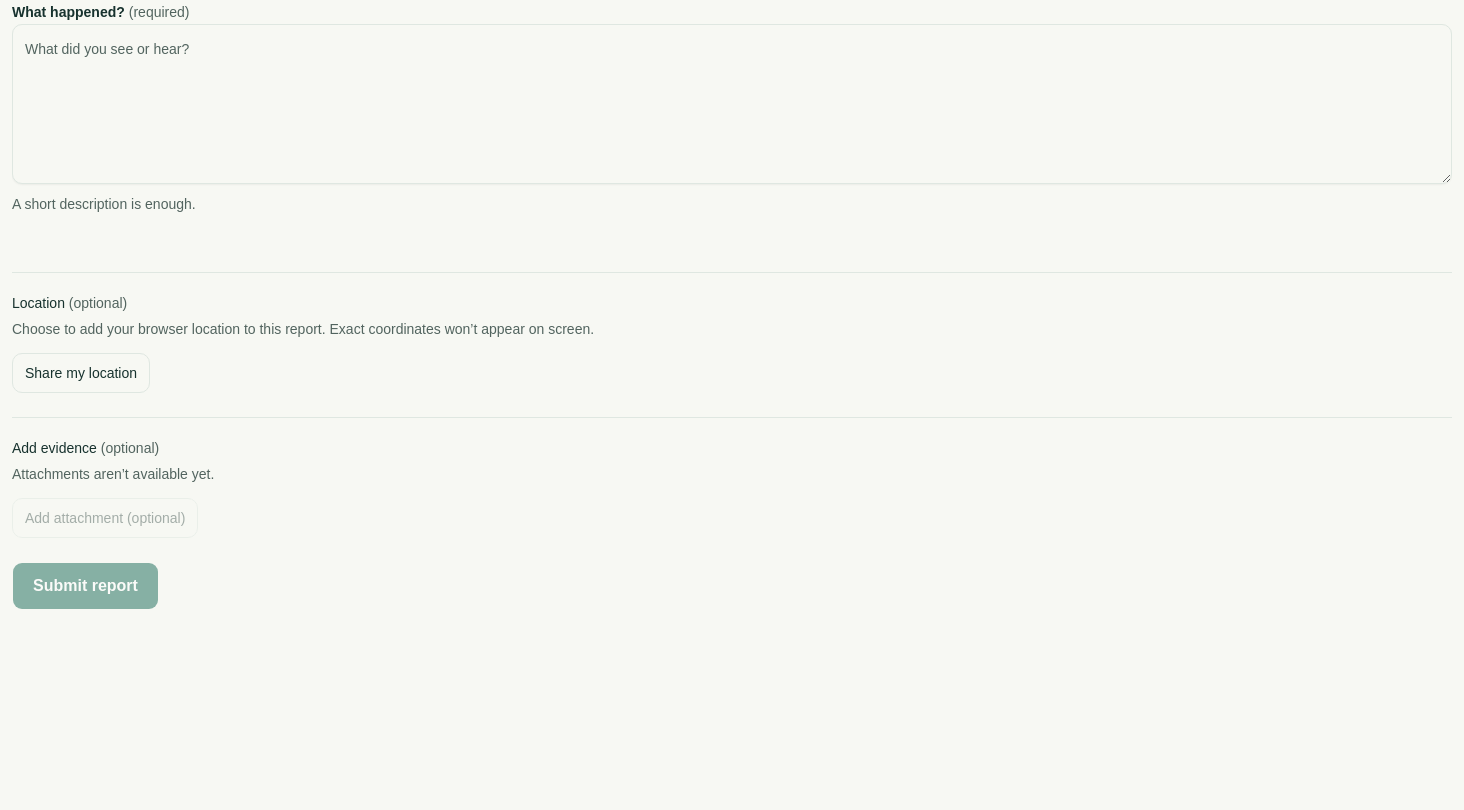
Scenario: ReportForm › submits text and shows the accepted reference
Type "  Smoke near the station.  " into the text box labelled "What happened?(required)" at (732, 104), box [12, 24, 1452, 184]
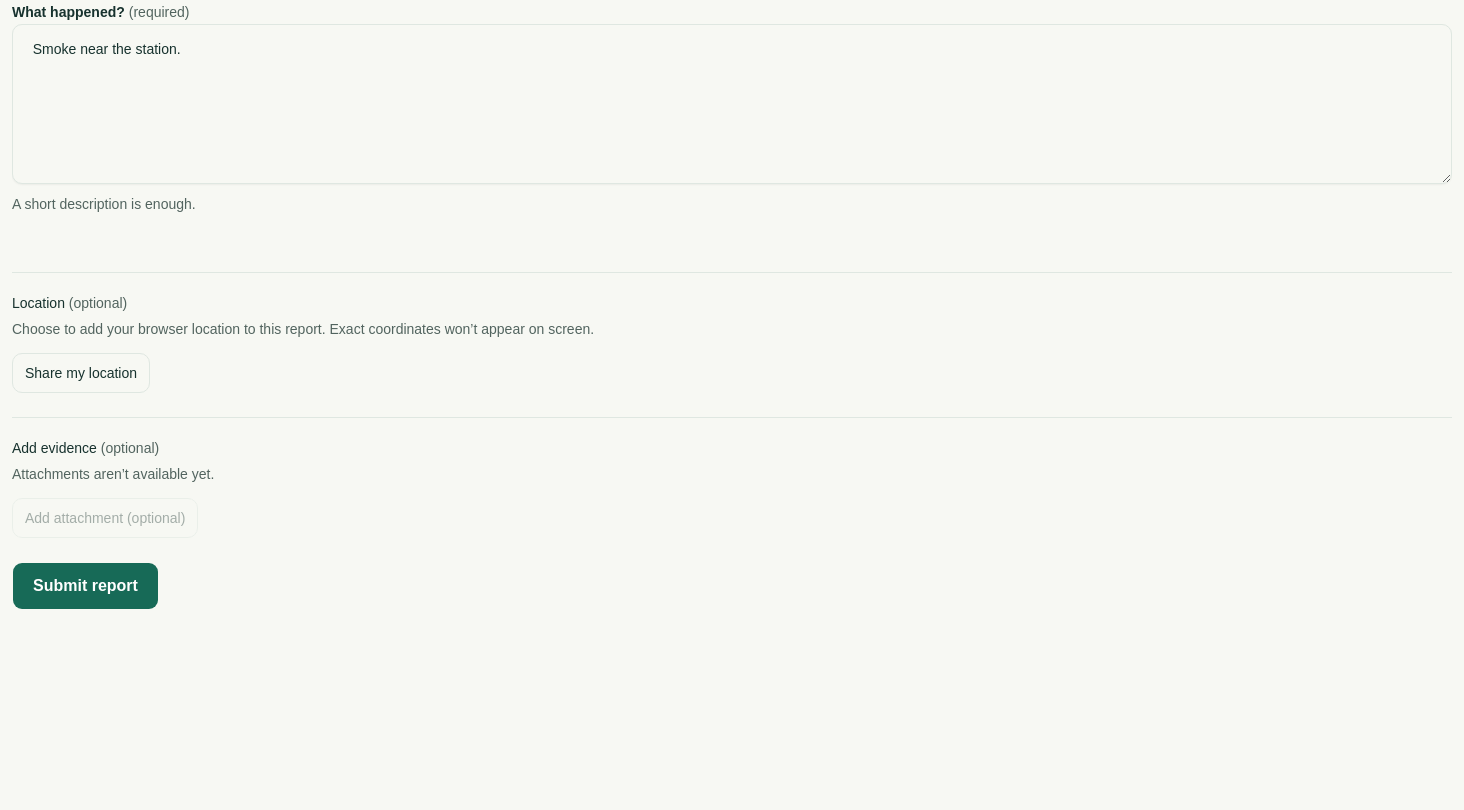
Click the button "Submit report" at (85, 586), box [12, 562, 159, 610]
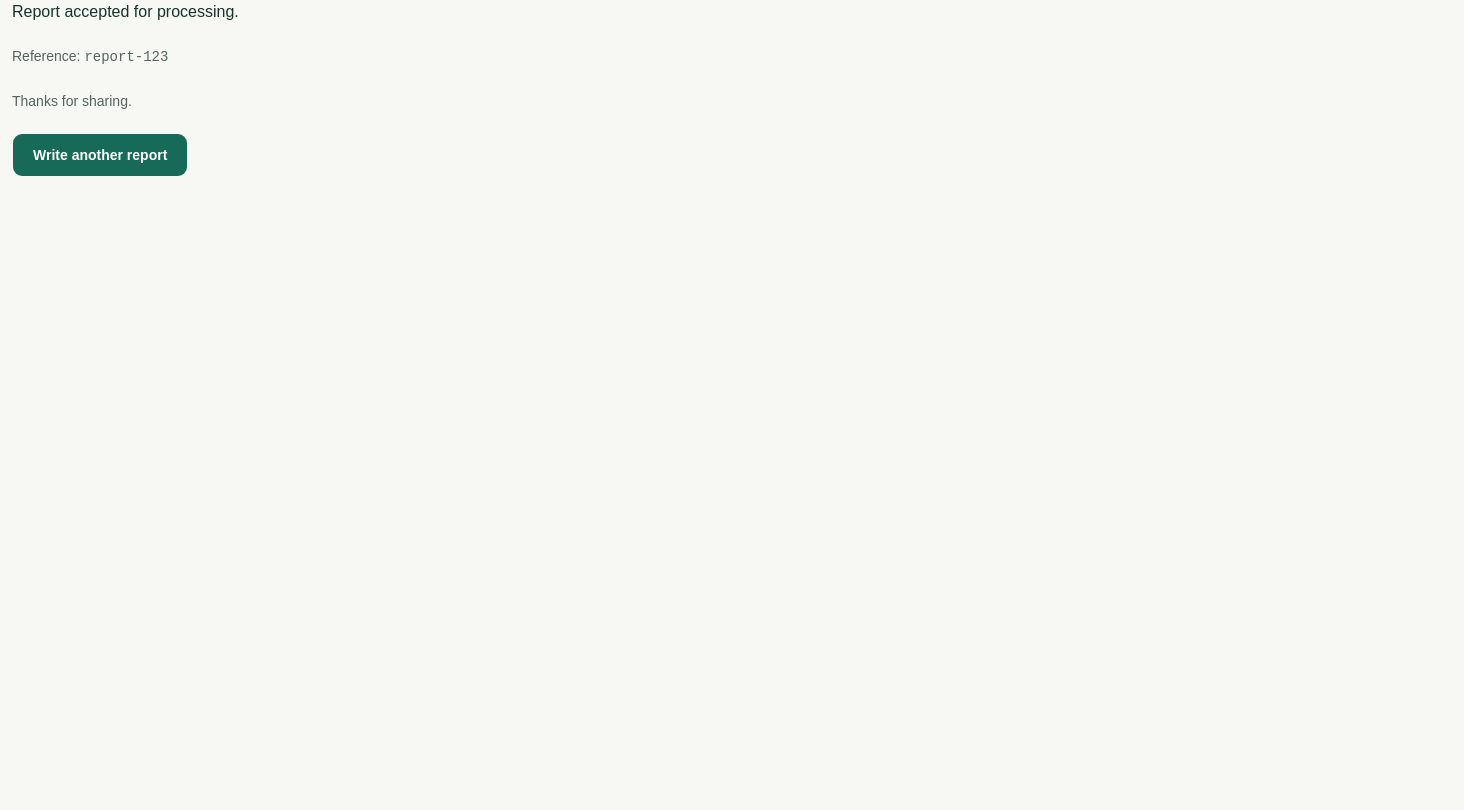
Expected: the text "Report accepted for processing." is shown, [12, 3, 239, 20]
Expected: the text "report-123" is shown, [84, 49, 168, 65]
